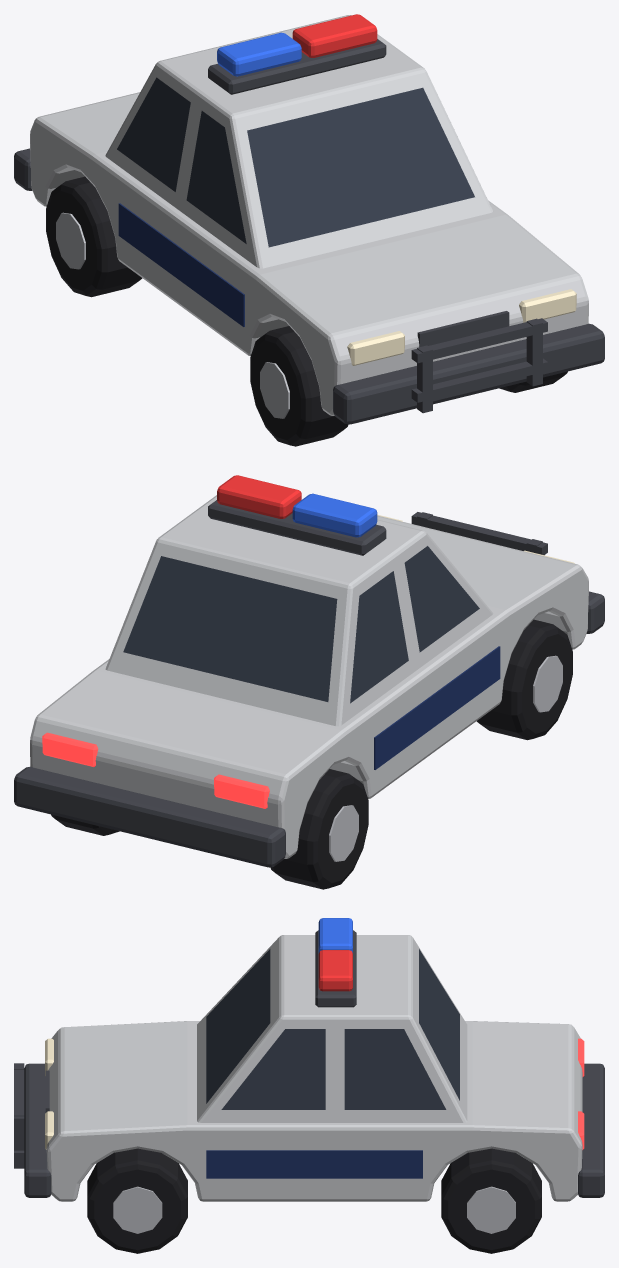
File: Police.fbx
The picture shows the model from 3 angles, top to bottom: view 1: azimuth 30°, elevation 25°; view 2: azimuth 150°, elevation 25°; view 3: azimuth 270°, elevation 25°; orthographic projection. The views are drawn at different scales.
Visible parts, largest first — view 1: Body, Windows, BumperFront, WheelFR, WheelRR, PushBar, DoorStripe, LightBarBase, SirenBlue, SirenRed, Grille, HeadlightR (+4 smaller); view 2: Body, Windows, BumperRear, WheelRR, WheelFR, DoorStripe, LightBarBase, SirenBlue, SirenRed, PushBar, HubcapFR, HubcapRR (+3 smaller); view 3: Body, Windows, WheelFL, WheelRL, DoorStripe, BumperRear, BumperFront, HubcapFL, HubcapRL, SirenRed, LightBarBase, PushBar (+1 smaller).
Part boxes in pixels (x1,y1,x2,y2): Body: (30, 15, 588, 415); Windows: (117, 77, 474, 247); BumperFront: (333, 323, 604, 424); WheelFR: (250, 326, 348, 446); WheelRR: (46, 176, 142, 297); PushBar: (411, 318, 547, 413); DoorStripe: (118, 203, 244, 326); LightBarBase: (208, 39, 386, 94); SirenBlue: (217, 32, 301, 76); SirenRed: (292, 14, 377, 57); Grille: (417, 311, 509, 347); HeadlightR: (347, 331, 404, 365); Body: (30, 495, 588, 858); Windows: (123, 546, 479, 703); BumperRear: (14, 766, 285, 867); WheelRR: (270, 769, 368, 889); WheelFR: (476, 619, 572, 740); DoorStripe: (374, 646, 500, 769); LightBarBase: (208, 500, 386, 555); SirenBlue: (292, 493, 377, 537); SirenRed: (217, 475, 301, 518); PushBar: (411, 512, 547, 555); HubcapFR: (533, 655, 562, 712); HubcapRR: (329, 805, 358, 861); Body: (46, 935, 582, 1201); Windows: (206, 949, 459, 1109); WheelFL: (87, 1148, 187, 1253); WheelRL: (441, 1148, 541, 1253); DoorStripe: (206, 1150, 422, 1178); BumperRear: (578, 1063, 604, 1197); BumperFront: (24, 1063, 51, 1197); HubcapFL: (113, 1186, 162, 1233); HubcapRL: (467, 1186, 515, 1233); SirenRed: (318, 950, 352, 991); LightBarBase: (315, 930, 356, 1007); PushBar: (14, 1063, 24, 1168).
Size of the model in its own units: 8 by 8.1 by 17.2.
